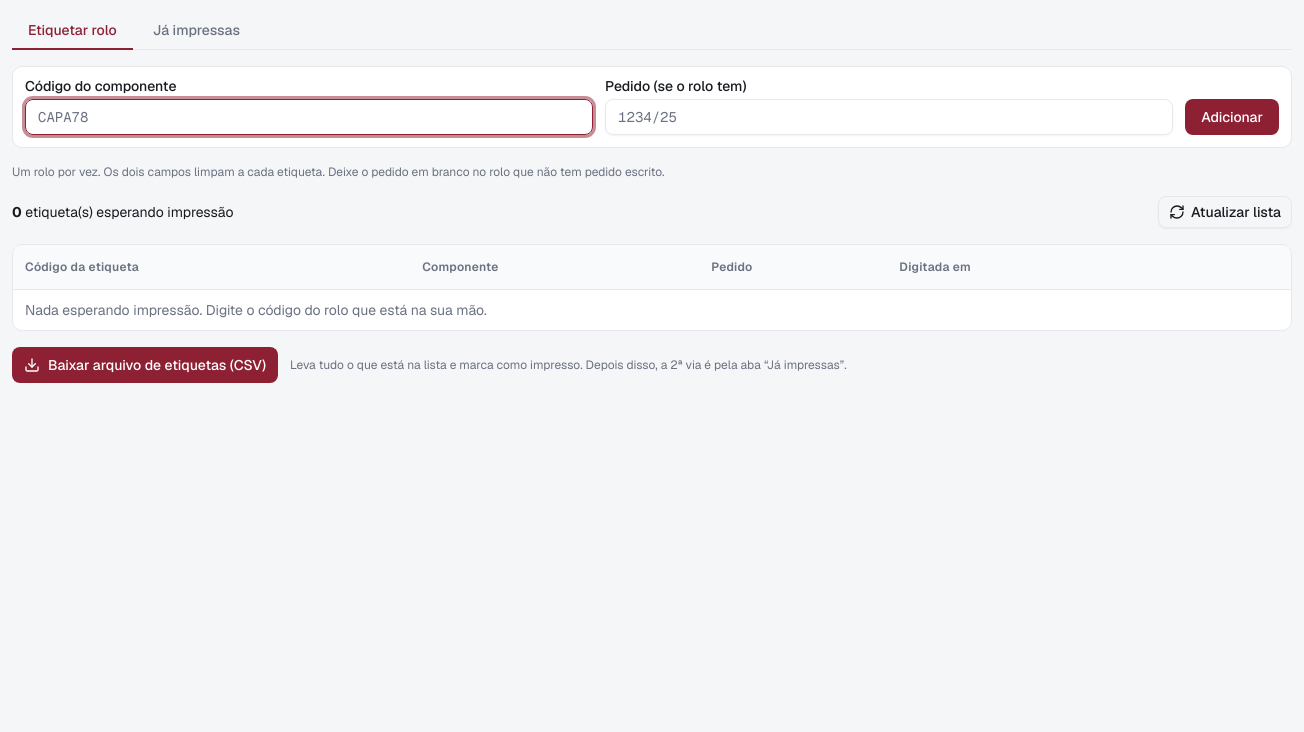
Test: 2ª via das já impressas › busca que devolveu zero não continua mandando escolher o período
The width and height of the screenshot is (1304, 732).
Click the button "Já impressas". click: (196, 31)
box: [137,12,256,50]
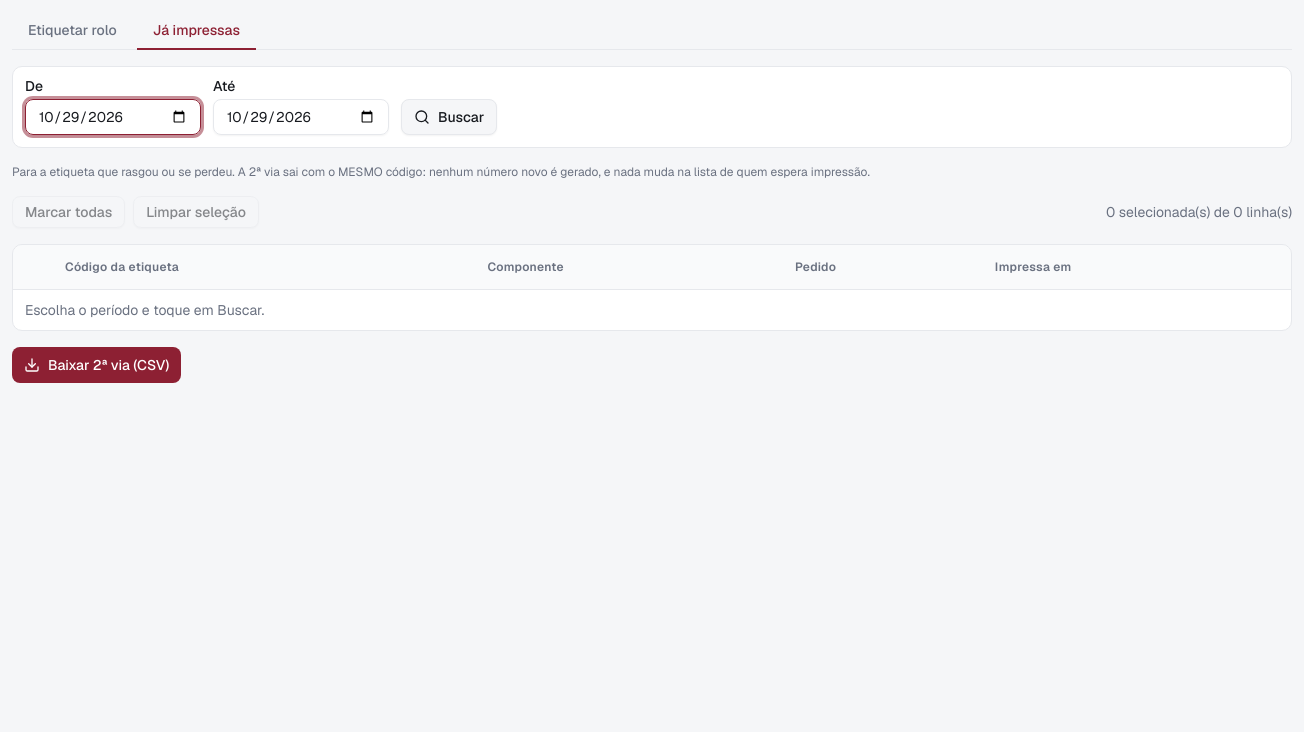
Check: the text "Escolha o período e toque em Buscar." is shown, box [13,289,1291,330]
Click the button "Buscar". click: (449, 117)
box: [401,99,497,135]
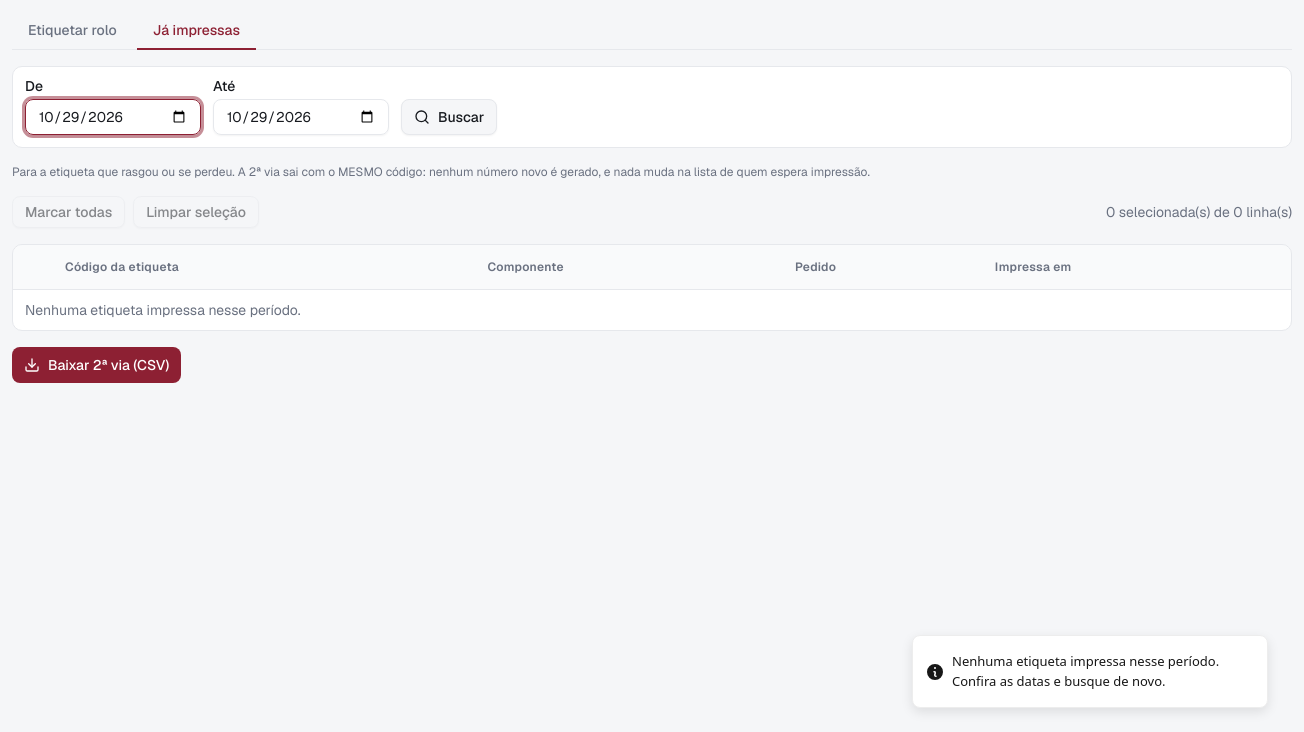
Check: the text "Nenhuma etiqueta impressa nesse período." is shown, box [13,289,1291,330]
Check: the text "Escolha o período e toque em Buscar." is gone
